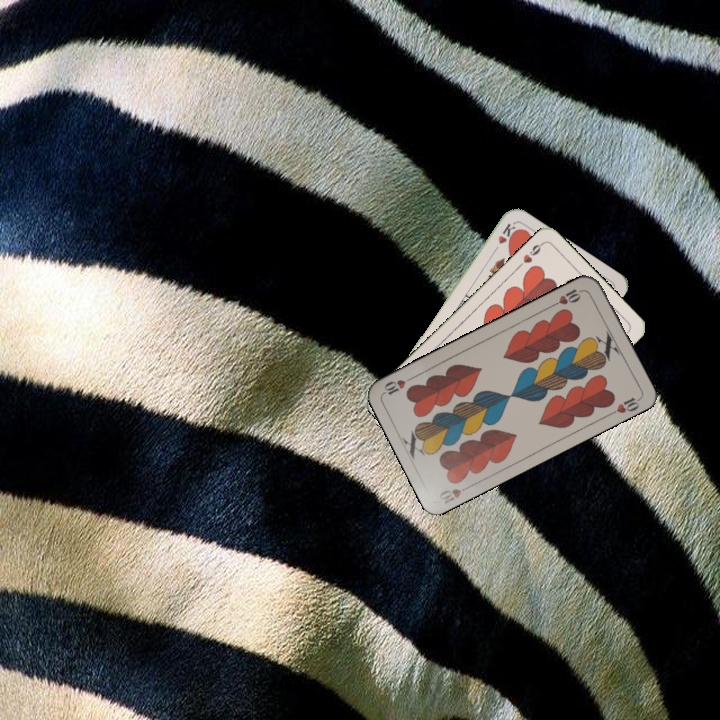H10: (435, 481, 475, 507), (548, 285, 587, 309)
H9: (514, 239, 546, 271)
HK: (489, 219, 519, 256)
